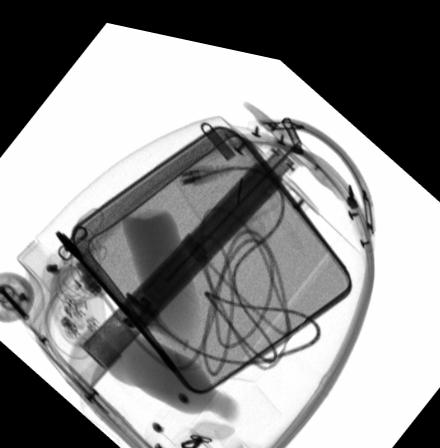Wrench: (54, 227, 179, 365)
